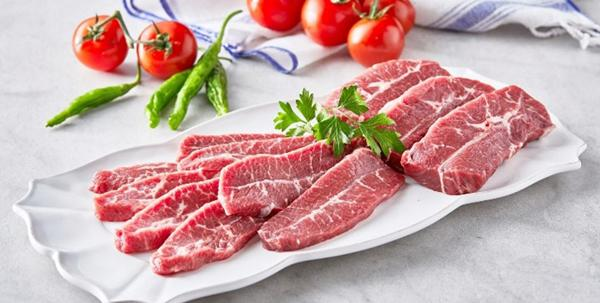beef: (123, 65, 291, 121), (351, 33, 510, 83)
